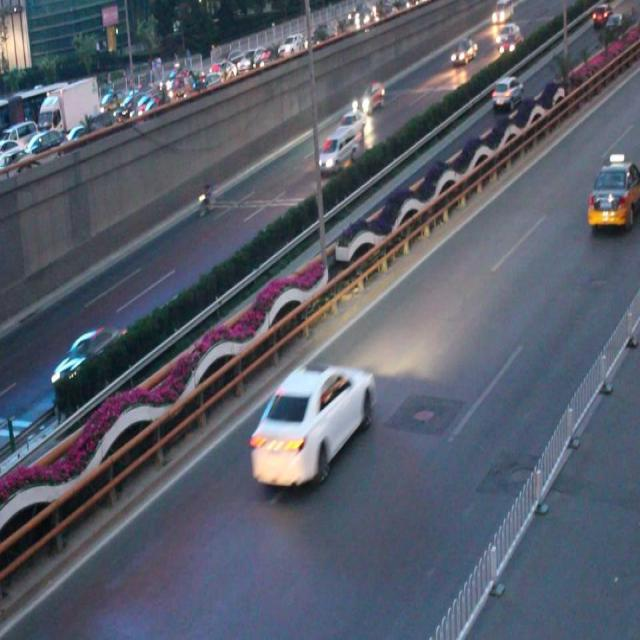car: (249, 363, 373, 488), (49, 326, 128, 404), (585, 156, 640, 229), (351, 82, 386, 116), (334, 107, 364, 140)
truck: (313, 130, 358, 170)
